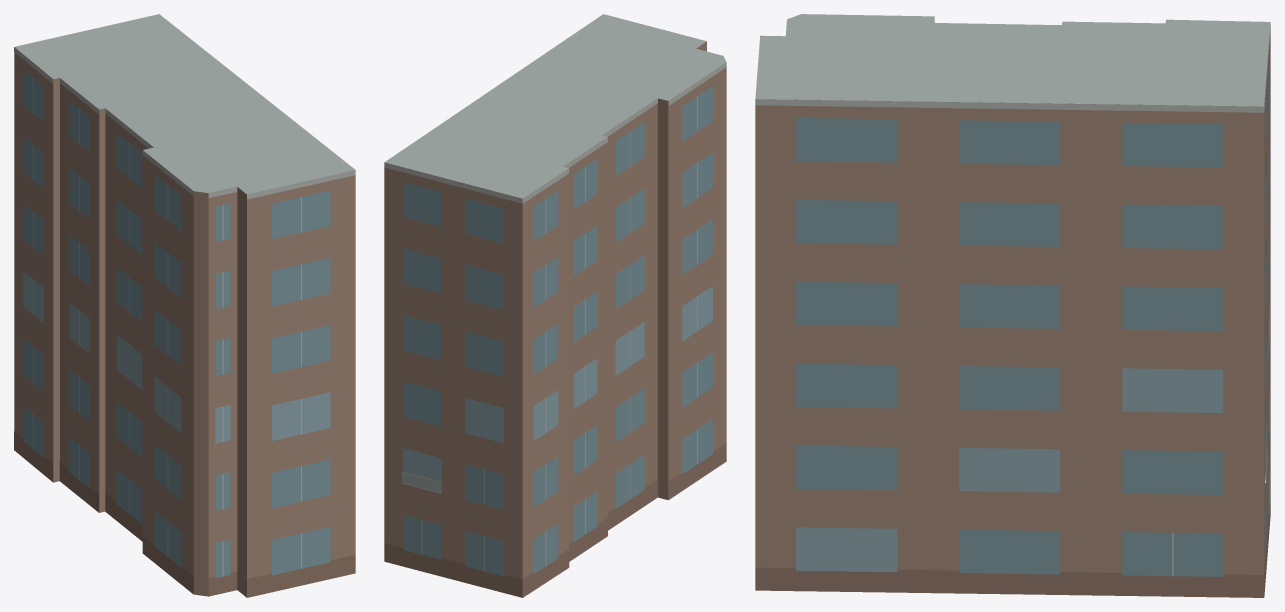
File: survey-upis-32993274.glb
The picture shows the model from 3 angles, left to right: view 1: azimuth 30°, elevation 25°; view 2: azimuth 150°, elevation 25°; view 3: azimuth 270°, elevation 25°; orthographic projection. The views are drawn at different scales.
Parts seen in each view (by area): view 1: survey-upis-32993274.tmp; view 2: survey-upis-32993274.tmp; view 3: survey-upis-32993274.tmp.
Part boxes in pixels (left/top/right/bottom): survey-upis-32993274.tmp: left=14, top=14, right=355, bottom=597; survey-upis-32993274.tmp: left=384, top=14, right=726, bottom=597; survey-upis-32993274.tmp: left=755, top=14, right=1270, bottom=597.
Bounding box in the file's own units: 7.83 × 19.35 × 18.4.
